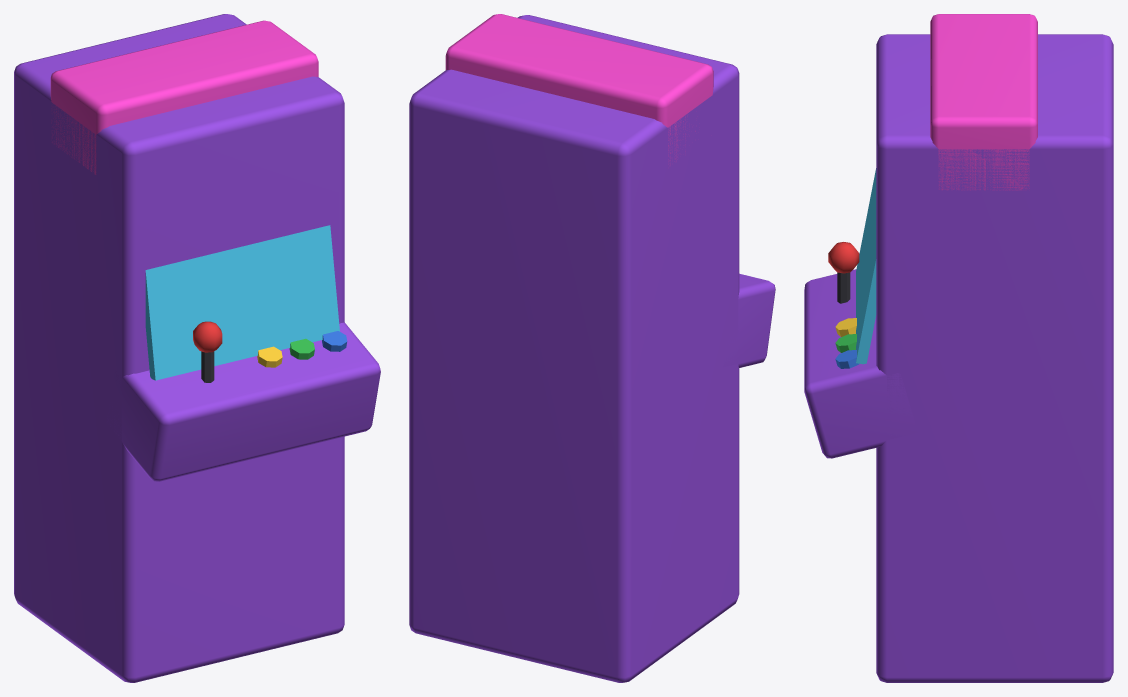
File: ArcadeMachine.fbx
3 renders of one model, left to right at view 1: azimuth 30°, elevation 25°; view 2: azimuth 150°, elevation 25°; view 3: azimuth 270°, elevation 25°, orthographic.
Parts seen in each view (by area): view 1: ArcadeMachine; view 2: ArcadeMachine; view 3: ArcadeMachine.
Part boxes in pixels (x1,y1,x2,y2): ArcadeMachine: [14, 14, 380, 682]; ArcadeMachine: [409, 14, 775, 682]; ArcadeMachine: [804, 14, 1113, 682].
Size of the model in its own units: 2.4 by 5.8 by 2.87.
1 material, 1 textured.
